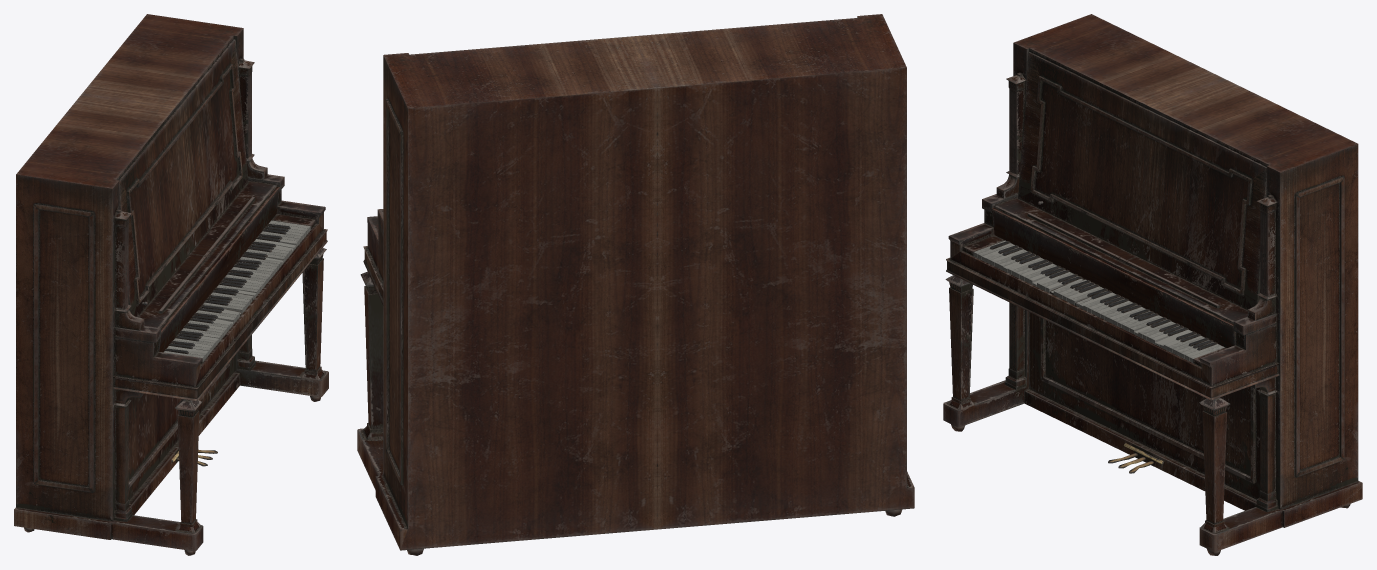
The model's file is obj_piano_147aa3.glb.
The picture shows the model from 3 angles, left to right: view 1: azimuth 30°, elevation 25°; view 2: azimuth 150°, elevation 25°; view 3: azimuth 270°, elevation 25°; orthographic projection. The views are drawn at different scales.
Visible parts, largest first — view 1: obj_piano_147aa3; view 2: obj_piano_147aa3; view 3: obj_piano_147aa3.
Part boxes in pixels (bbox=[...]): obj_piano_147aa3: bbox=[14, 14, 328, 555]; obj_piano_147aa3: bbox=[357, 14, 914, 555]; obj_piano_147aa3: bbox=[943, 14, 1362, 555].
Size of the model in its own units: 1.43 by 1.3 by 1.36.
Materials: 1 (1 with a texture image).
